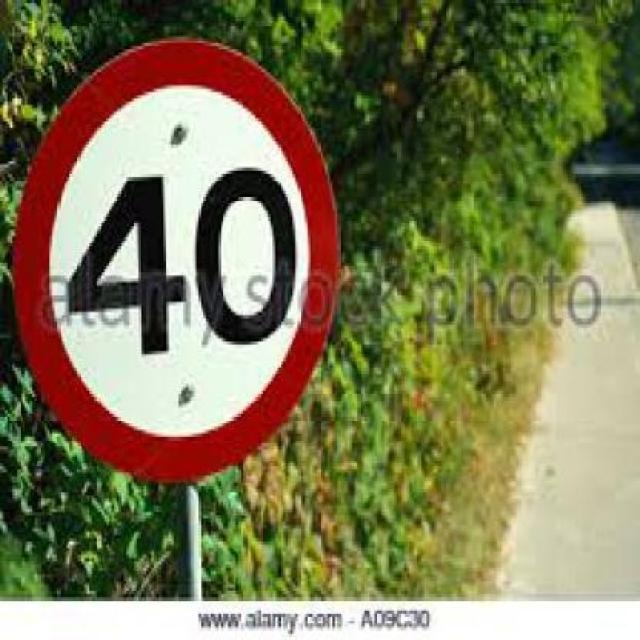forb_speed_over_40: (26, 41, 329, 474)
